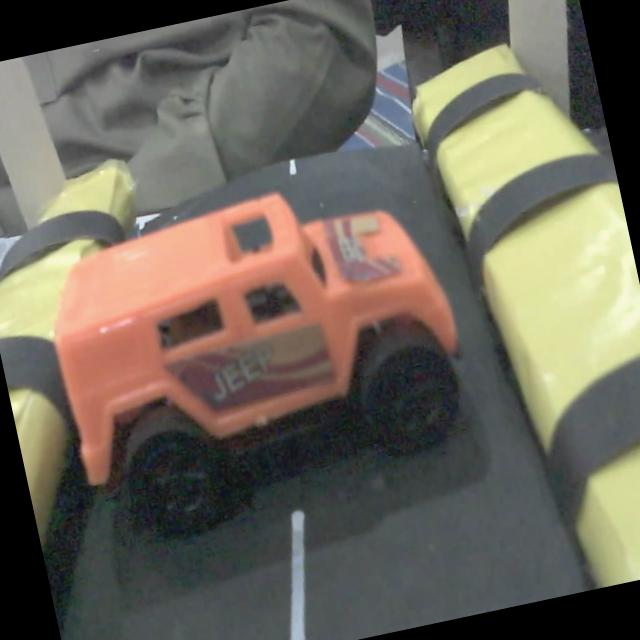OneCar: (54, 193, 460, 536)
